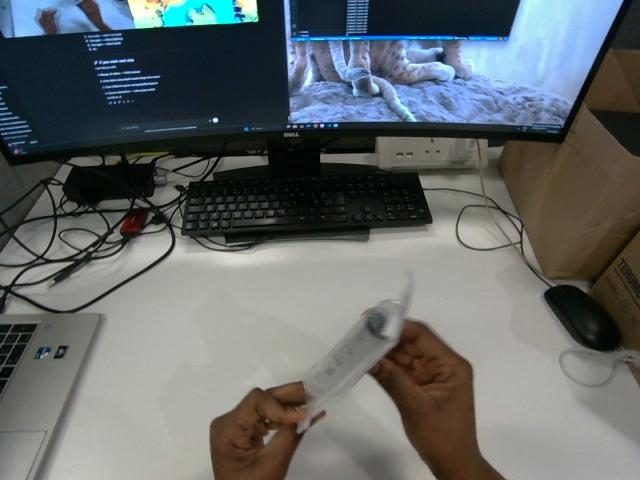syringe: (297, 278, 412, 432)
